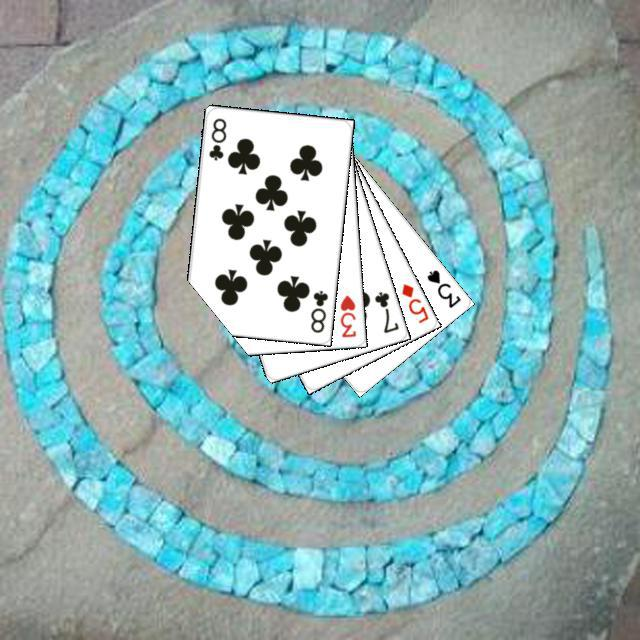3h: (335, 290, 357, 339)
3s: (422, 264, 462, 310)
5d: (396, 279, 430, 325)
7c: (370, 286, 401, 335)
8c: (204, 113, 228, 162), (306, 285, 329, 334)
